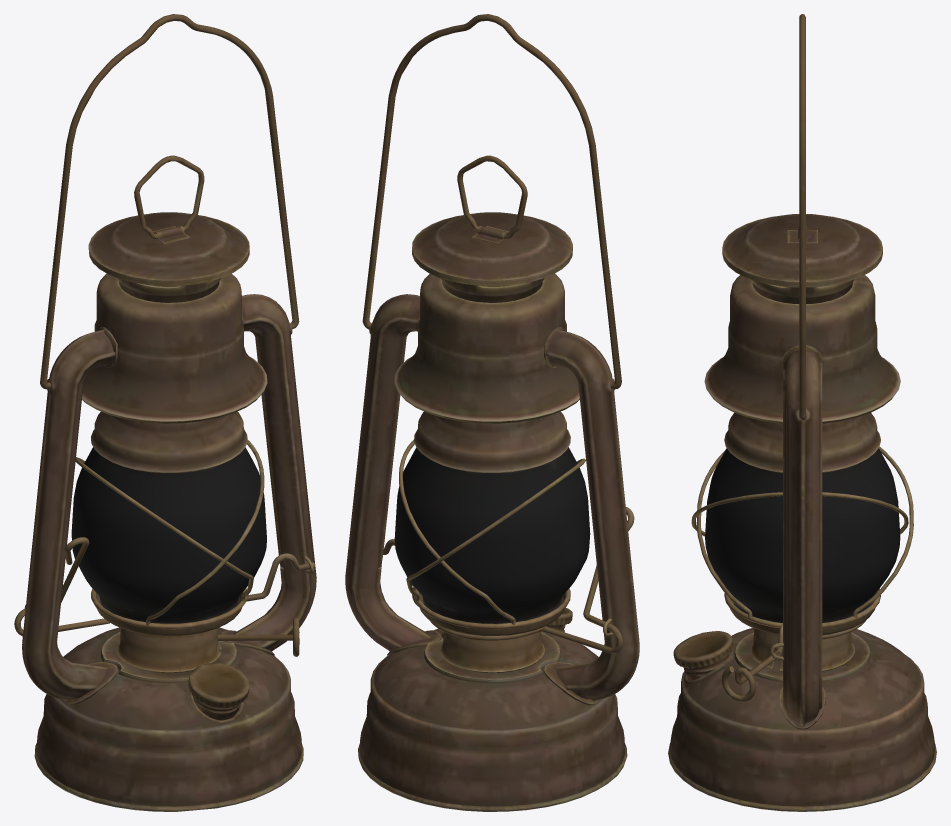
Rendered from Lantern_01.glb.
3 renders of one model, left to right at view 1: azimuth 30°, elevation 25°; view 2: azimuth 150°, elevation 25°; view 3: azimuth 270°, elevation 25°, orthographic.
Parts seen in each view (by area): view 1: Lantern_01, Lantern_01_glass; view 2: Lantern_01, Lantern_01_glass; view 3: Lantern_01, Lantern_01_glass.
Part boxes in pixels (x1,y1,x2,y2): Lantern_01: (14, 14, 316, 811); Lantern_01_glass: (71, 447, 266, 623); Lantern_01: (345, 14, 639, 811); Lantern_01_glass: (394, 447, 590, 623); Lantern_01: (668, 14, 936, 811); Lantern_01_glass: (705, 448, 900, 622).
Bounding box in the file's own units: 0.1221 × 0.2942 × 0.0971.
2 materials, 2 textured.
